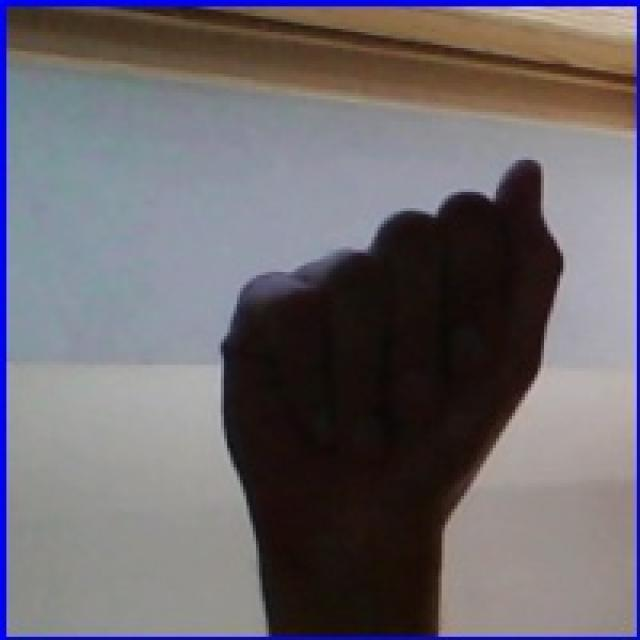Letra A: (185, 117, 588, 606)
